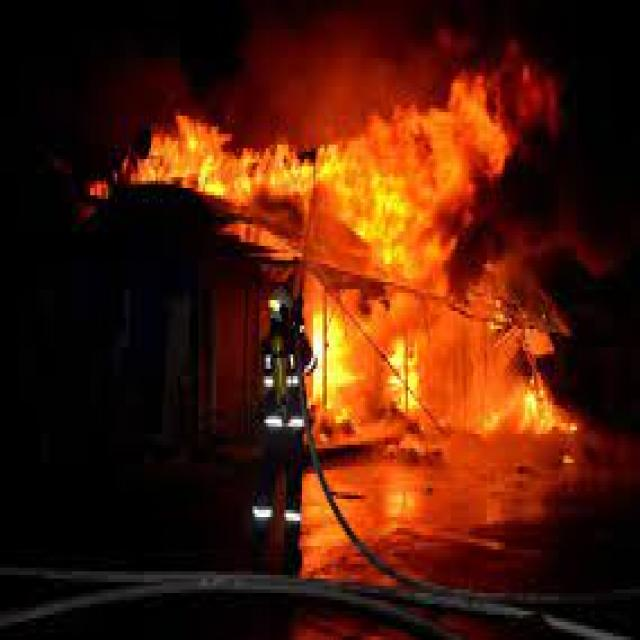fire: (68, 47, 570, 253), (300, 271, 584, 470)
